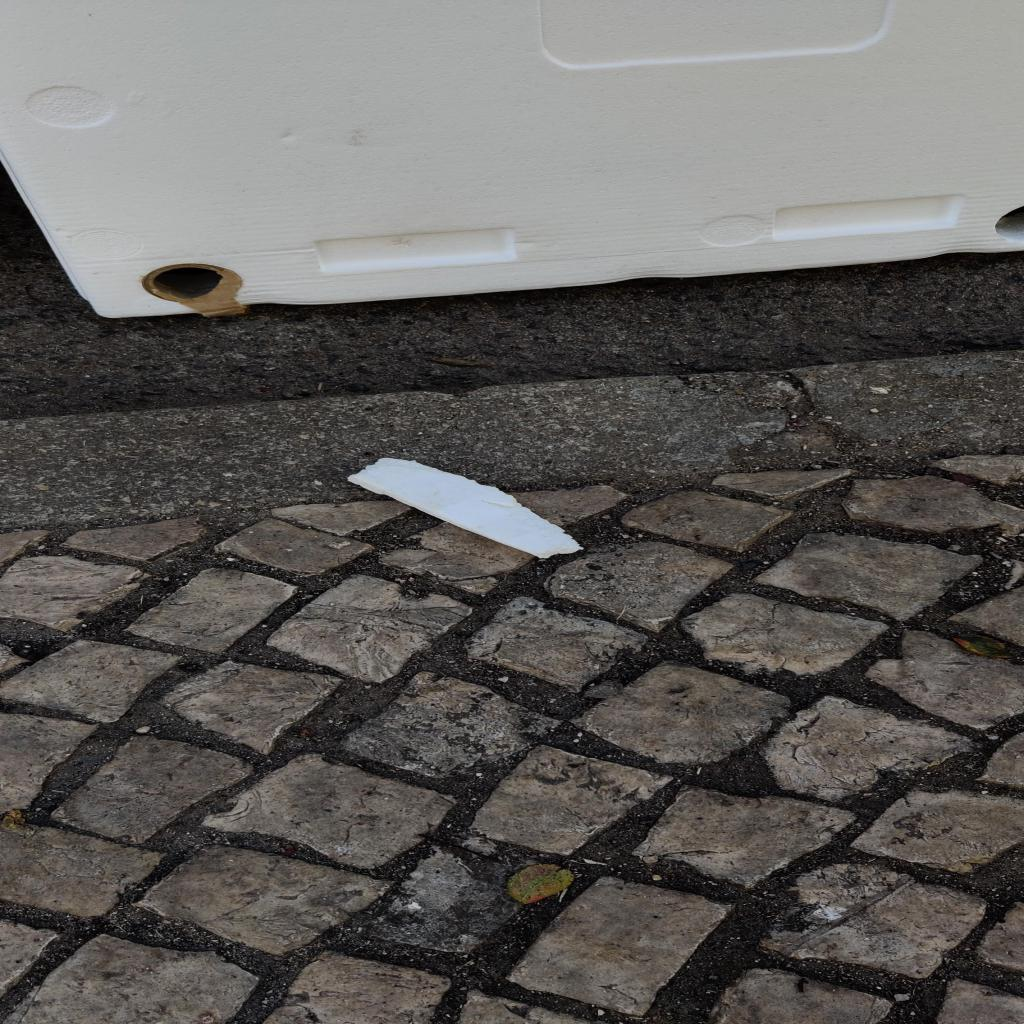Corrugated carton: (142, 265, 248, 317)
Styrofoam piece: (2, 0, 1023, 319), (348, 456, 584, 558)
